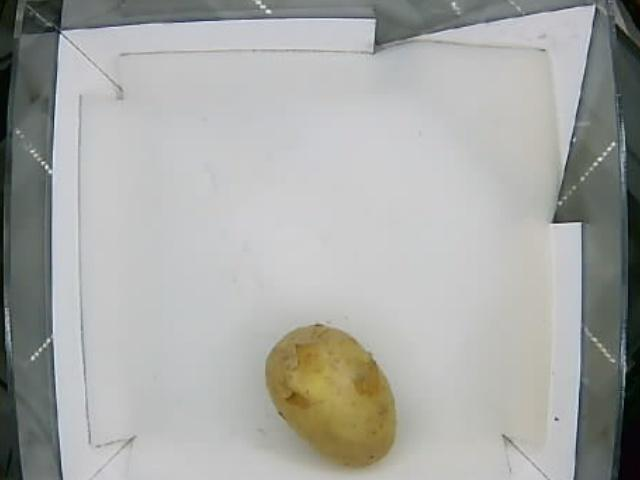Potato: (265, 323, 398, 469)
